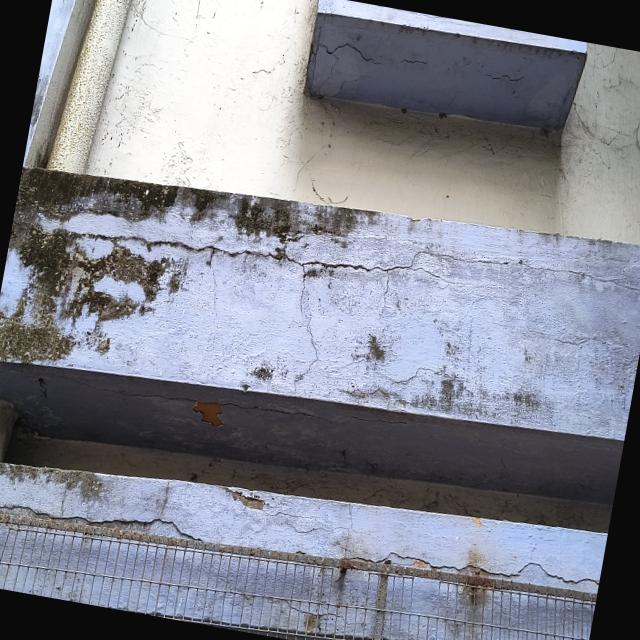crack: (12, 219, 640, 324), (328, 541, 600, 593), (0, 499, 214, 547), (224, 397, 409, 432), (304, 35, 388, 100), (287, 300, 319, 404), (94, 381, 194, 405), (477, 62, 527, 89), (396, 52, 437, 74)
peeling: (206, 480, 276, 516), (192, 401, 222, 426), (462, 510, 487, 535)
stain_mould: (0, 167, 382, 362), (0, 463, 104, 500)
